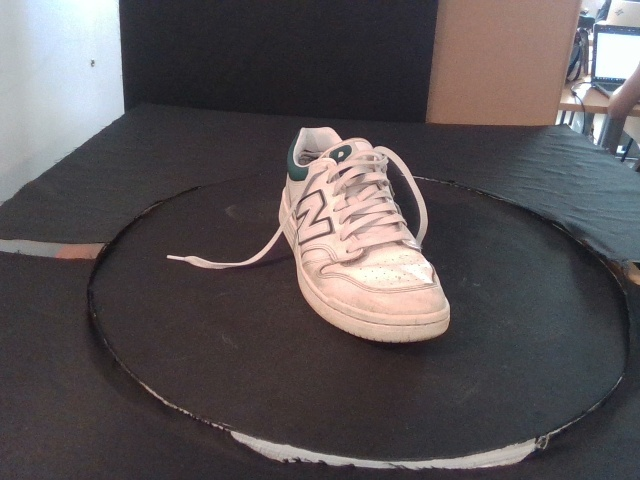shoe: (279, 125, 452, 343)
